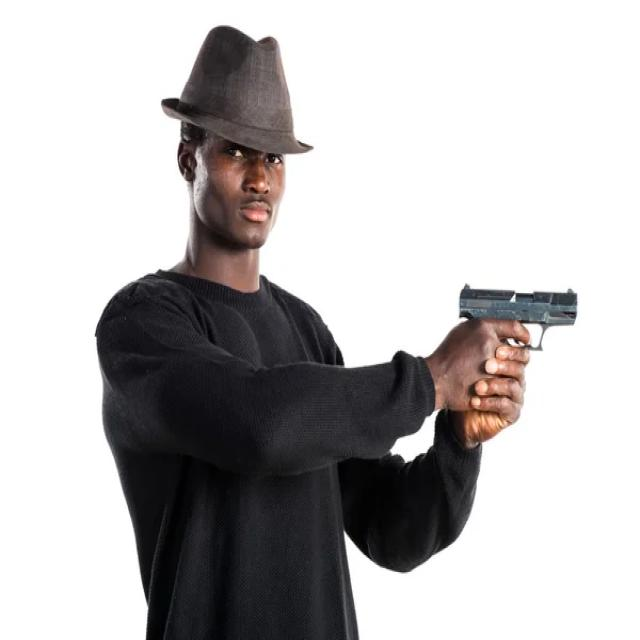HandGun: (459, 283, 578, 351)
